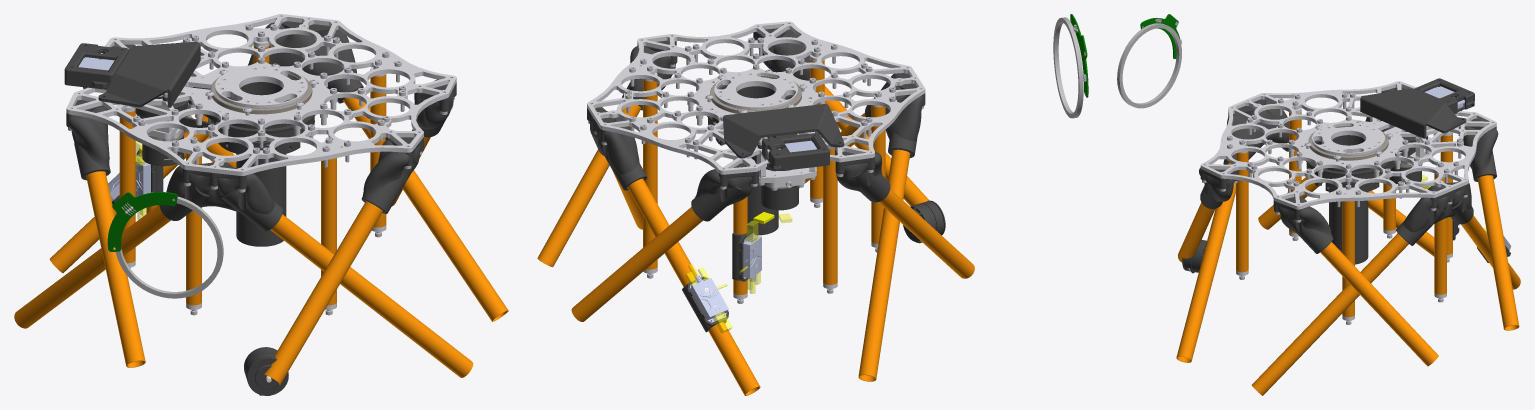
Rendered from Hero_Mk1_TurretBase_EITensioner (1).glb.
The picture shows the model from 3 angles, left to right: view 1: azimuth 30°, elevation 25°; view 2: azimuth 150°, elevation 25°; view 3: azimuth 270°, elevation 25°; orthographic projection. The views are drawn at different scales.
Parts seen in each view (by area): view 1: Hero_Mk1_TurretBase_SupportTube-1, Hero_Mk1_TurretBase_SandwhichPlate-1, Hero_Mk1_TurretBase_EncoderCover-2, Hero_Mk1_TurretBase_SupportTubeAttachment2-2, Hero_Mk1_TurretBase_InnerBearingPlate0-1, Hero_Mk1_TurretBase_SupportTubeAttachment2-4, Hero_Mk1_TurretBase_Tube-2, Hero_Mk1_TurretBase_SupportTubeAttachment1-5, Hero_Mk1_TurretBase_SupportTubeAttachment1-2, Hero_Mk1_TurretBase_EncoderHolder-1, am-5201 lamprey2_4in.step-1/CRowe_absolute_posiiton_target.s, am-5201 lamprey2_4in.step-1/Board.step-1/Open CASCADE STEP t (+7 smaller); view 2: Hero_Mk1_TurretBase_SupportTube-1, Hero_Mk1_TurretBase_SandwhichPlate-1, Hero_Mk1_TurretBase_EncoderCover-2, Hero_Mk1_TurretBase_InnerBearingPlate0-1, Hero_Mk1_TurretBase_SupportTubeAttachment1-4, Hero_Mk1_TurretBase_SupportTubeAttachment2-4, Hero_Mk1_TurretBase_EncoderHolder-1, Hero_Mk1_TurretBase_SupportTubeAttachment2-2, Hero_Mk1_TurretBase_SupportTubeAttachment1-2, DJI_C620-2, Hero_Mk1_TurretBase_Tube-2, am-5201 lamprey2_4in.step-1/CRowe_absolute_posiiton_target.s (+9 smaller); view 3: Hero_Mk1_TurretBase_SupportTube-1, Hero_Mk1_TurretBase_SandwhichPlate-1, Hero_Mk1_TurretBase_EncoderCover-2, Hero_Mk1_TurretBase_SupportTubeAttachment2-4, Hero_Mk1_TurretBase_Tube-2, Hero_Mk1_TurretBase_InnerBearingPlate0-1, Hero_Mk1_TurretBase_SupportTubeAttachment1-6, Hero_Mk1_TurretBase_SupportTubeAttachment2-2, am-5201 lamprey2_4in.step-1/CRowe_absolute_posiiton_target.s, Hero_Mk1_TurretBase_SupportTubeAttachment1-4, Hero_Mk1_TurretBase_SupportTubeAttachment1-5, Hero_Mk1_TurretBase_EncoderHolder-1 (+5 smaller).
Part boxes in pixels (x1,y1,x2,y2): Hero_Mk1_TurretBase_SupportTube-1: (14, 46, 508, 384); Hero_Mk1_TurretBase_SandwhichPlate-1: (66, 14, 456, 175); Hero_Mk1_TurretBase_EncoderCover-2: (98, 41, 200, 107); Hero_Mk1_TurretBase_SupportTubeAttachment2-2: (159, 162, 282, 231); Hero_Mk1_TurretBase_InnerBearingPlate0-1: (215, 66, 307, 108); Hero_Mk1_TurretBase_SupportTubeAttachment2-4: (248, 21, 363, 103); Hero_Mk1_TurretBase_Tube-2: (236, 82, 286, 246); Hero_Mk1_TurretBase_SupportTubeAttachment1-5: (361, 137, 423, 214); Hero_Mk1_TurretBase_SupportTubeAttachment1-2: (66, 100, 110, 180); Hero_Mk1_TurretBase_EncoderHolder-1: (64, 43, 167, 101); am-5201 lamprey2_4in.step-1/CRowe_absolute_posiiton_target.s: (115, 196, 223, 298); am-5201 lamprey2_4in.step-1/Board.step-1/Open CASCADE STEP t: (107, 192, 177, 251); Hero_Mk1_TurretBase_SupportTube-1: (537, 60, 974, 395); Hero_Mk1_TurretBase_SandwhichPlate-1: (587, 21, 925, 174); Hero_Mk1_TurretBase_EncoderCover-2: (723, 104, 844, 158); Hero_Mk1_TurretBase_InnerBearingPlate0-1: (714, 72, 797, 109); Hero_Mk1_TurretBase_SupportTubeAttachment1-4: (691, 163, 758, 221); Hero_Mk1_TurretBase_SupportTubeAttachment2-4: (587, 107, 647, 190); Hero_Mk1_TurretBase_EncoderHolder-1: (757, 133, 829, 170); Hero_Mk1_TurretBase_SupportTubeAttachment2-2: (865, 73, 925, 157); Hero_Mk1_TurretBase_SupportTubeAttachment1-2: (835, 150, 890, 202); DJI_C620-2: (685, 263, 732, 333); Hero_Mk1_TurretBase_Tube-2: (737, 86, 778, 235); am-5201 lamprey2_4in.step-1/CRowe_absolute_posiiton_target.s: (1053, 17, 1083, 118); Hero_Mk1_TurretBase_SupportTube-1: (1176, 112, 1520, 395); Hero_Mk1_TurretBase_SandwhichPlate-1: (1200, 81, 1496, 209); Hero_Mk1_TurretBase_EncoderCover-2: (1360, 88, 1466, 138); Hero_Mk1_TurretBase_SupportTubeAttachment2-4: (1396, 181, 1473, 245); Hero_Mk1_TurretBase_Tube-2: (1329, 135, 1368, 264); Hero_Mk1_TurretBase_InnerBearingPlate0-1: (1312, 122, 1384, 155); Hero_Mk1_TurretBase_SupportTubeAttachment1-6: (1273, 196, 1333, 253); Hero_Mk1_TurretBase_SupportTubeAttachment2-2: (1223, 99, 1288, 164); am-5201 lamprey2_4in.step-1/CRowe_absolute_posiiton_target.s: (1117, 23, 1181, 108); Hero_Mk1_TurretBase_SupportTubeAttachment1-4: (1458, 118, 1498, 181); Hero_Mk1_TurretBase_SupportTubeAttachment1-5: (1199, 167, 1238, 208); Hero_Mk1_TurretBase_EncoderHolder-1: (1413, 78, 1474, 113).
Size of the model in its own units: 0.5193 by 0.3087 by 0.5123.
